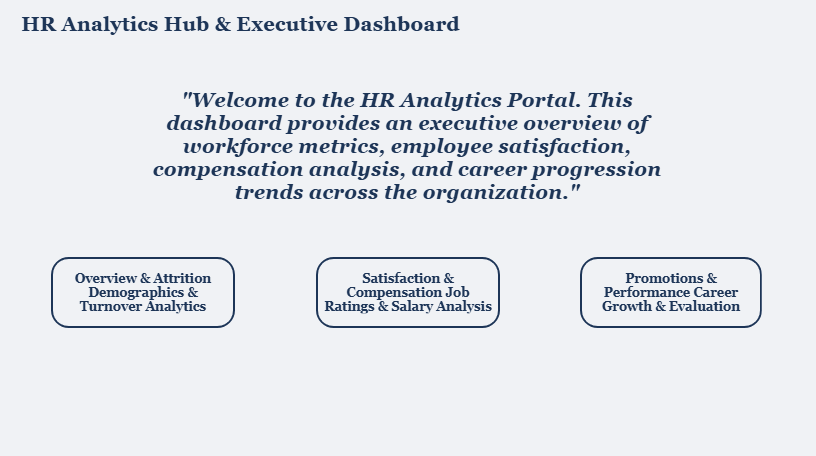

Layout of this report page (visuals, bound fields, positions):
{"tool":"powerbi","page":{"name":"Home Page","canvas":[1280,720],"ordinal":0},"visuals":[{"type":"textbox","box":[32.8,15.6,748.4,56.2],"z":0},{"type":"textbox","box":[228.1,134.4,825,206.2],"z":1000},{"type":"actionButton","box":[84.4,403.1,287.5,110.9],"z":2000},{"type":"actionButton","box":[497.7,403.1,287.5,110.9],"z":3000},{"type":"actionButton","box":[910.9,403.1,284.4,110.9],"z":4000}]}

Visuals, with their boxes in screenshot pixels (x1, y1, x2, y2), scaled from the page's 1280x720 canvas onto the 816x456 screenshot:
textbox: 21:10:498:45
textbox: 145:85:671:216
actionButton: 54:255:237:326
actionButton: 317:255:501:326
actionButton: 581:255:762:326
